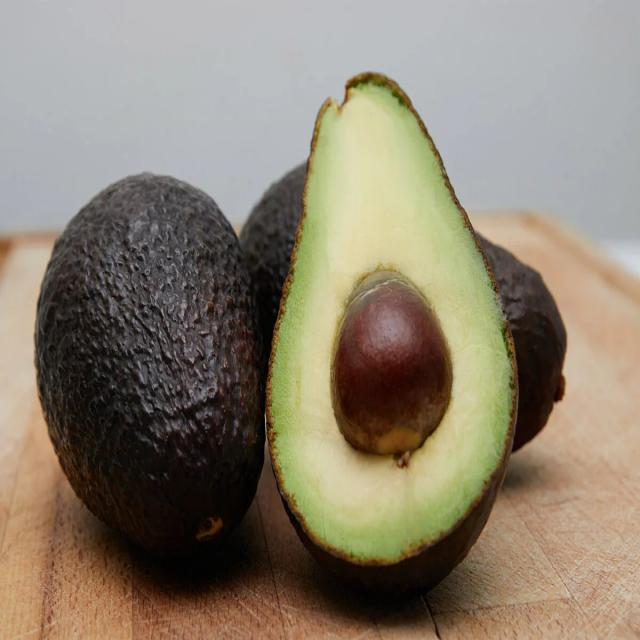avocado: (268, 73, 520, 592), (241, 161, 566, 450), (34, 172, 264, 556)
